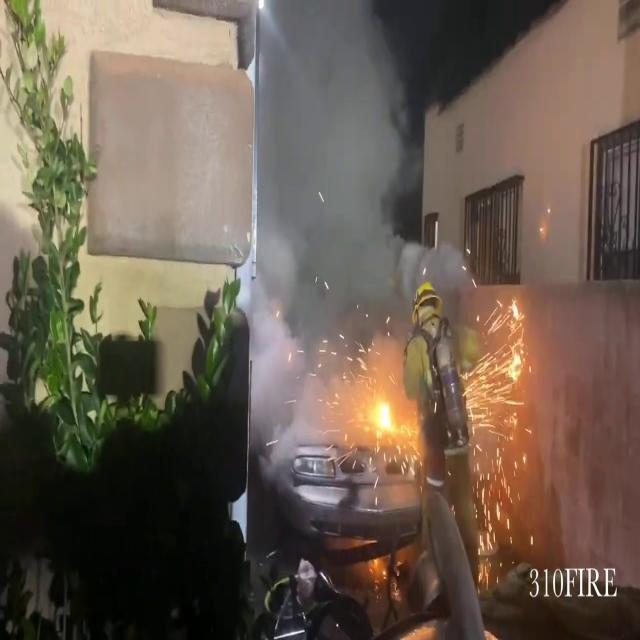Fire: (365, 383, 413, 451)
Smoke: (253, 0, 417, 430)
